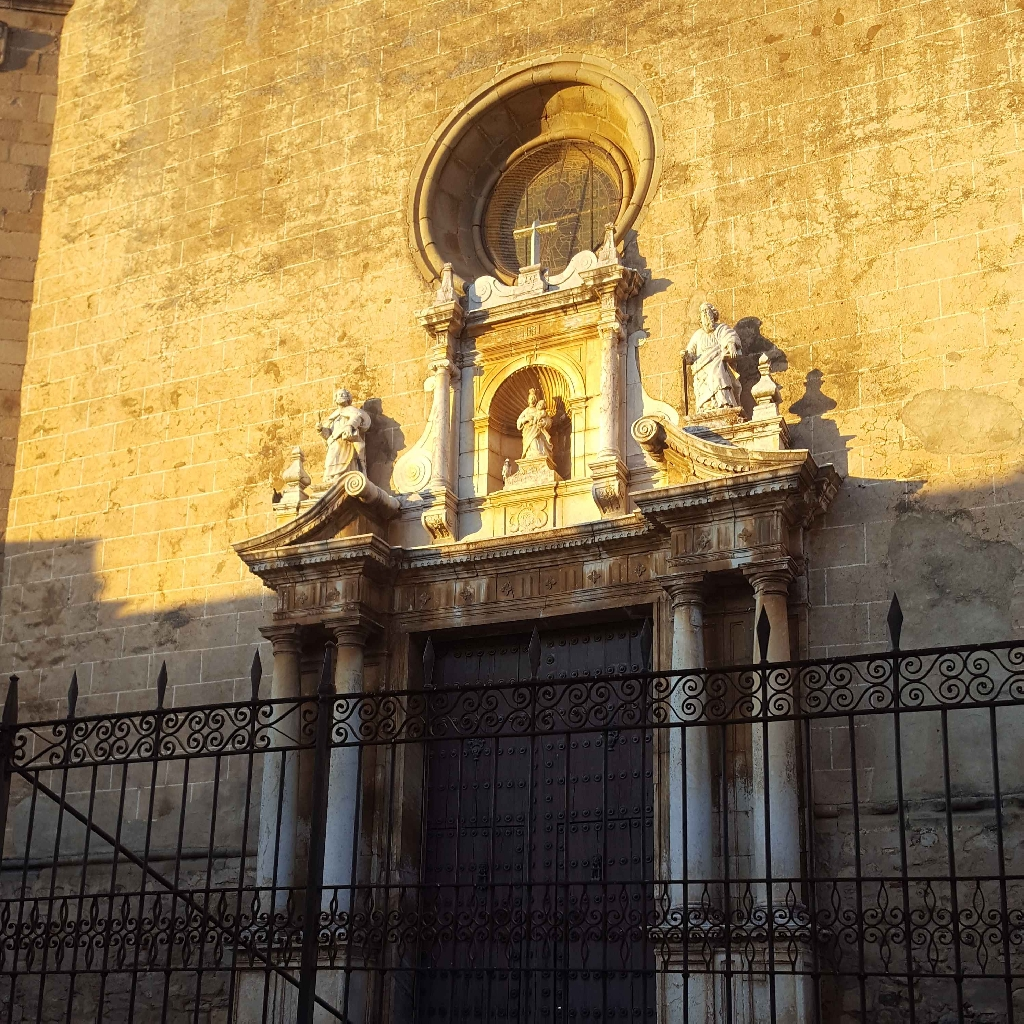fronton-partido: (236, 416, 815, 568)
ojo-de-buey: (413, 63, 661, 279)
vano-adintelado: (365, 576, 671, 1024)
